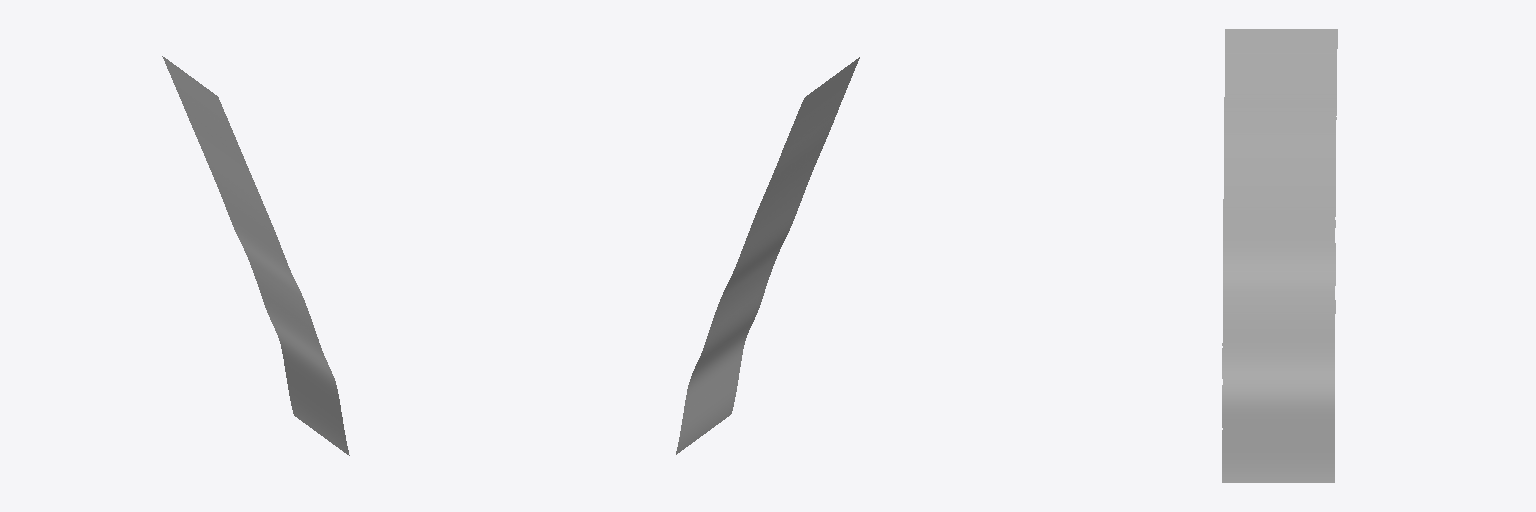
File: Data_20100324_01_010.obj
3 views of the same model, side by side, from view 1: azimuth 30°, elevation 25°; view 2: azimuth 150°, elevation 25°; view 3: azimuth 270°, elevation 25° (orthographic).
Parts seen in each view (by area): view 1: mesh; view 2: mesh; view 3: mesh.
Part boxes in pixels (x1,y1,x2,y2): mesh: (162,56,349,455); mesh: (676,57,859,454); mesh: (1222,29,1337,482).
Size of the model in its own units: 9095 by 26051 by 6979.